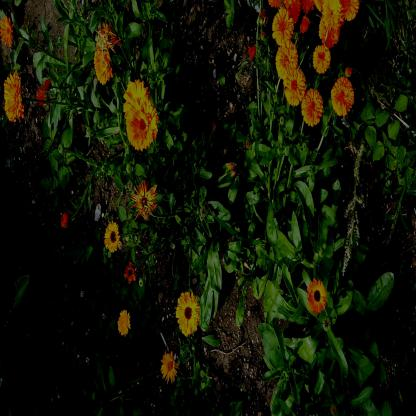marigold: (127, 102, 157, 148), (175, 295, 201, 337), (332, 76, 354, 113), (5, 74, 22, 120), (284, 68, 305, 105), (276, 43, 298, 78), (274, 9, 294, 45), (318, 17, 342, 47), (94, 48, 112, 84), (304, 90, 322, 124), (160, 353, 179, 384), (308, 280, 326, 311), (313, 46, 331, 74), (324, 0, 340, 27), (104, 224, 119, 252), (340, 0, 358, 21), (1, 17, 14, 46), (118, 312, 130, 334)
